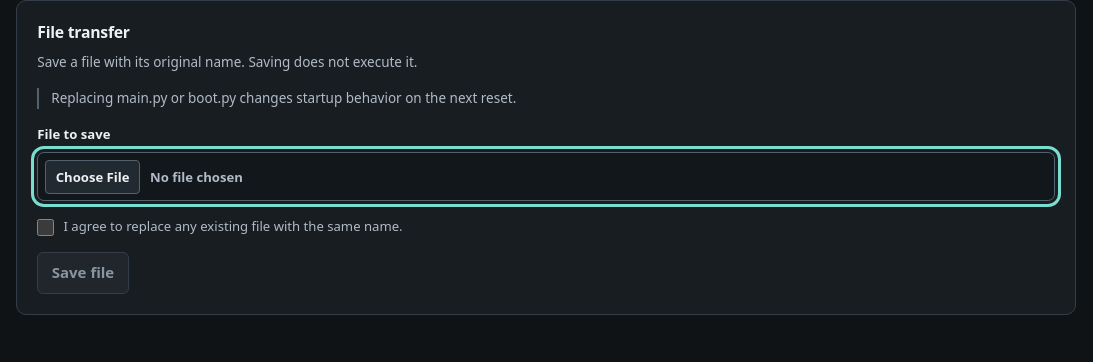
single file transfer › requires explicit overwrite consent, saves original file and only resets on success
This screenshot has width=1093, height=362.
Earlier steps of the test are not shown.
Expected: the button "Save file" is disabled, [37,252,129,294]
Click the checkbox labelled "I agree to replace any existing file with the same name." at [46, 228], box [37,220,54,236]
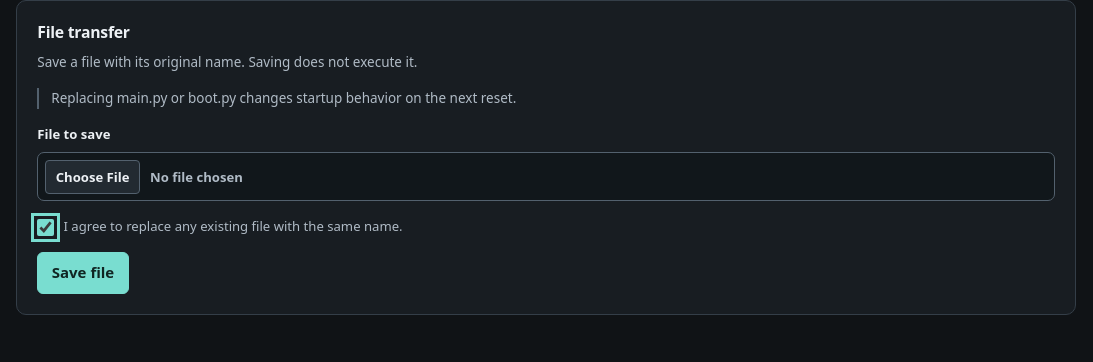
Click the button "Save file" at [83, 273], box [37,252,129,294]
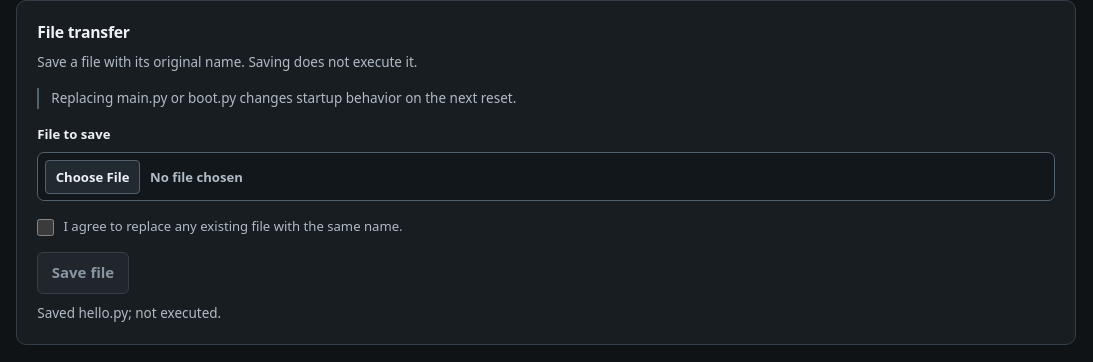
Expected: the message reads "Saved hello.py; not executed.", [37,304,221,322]
